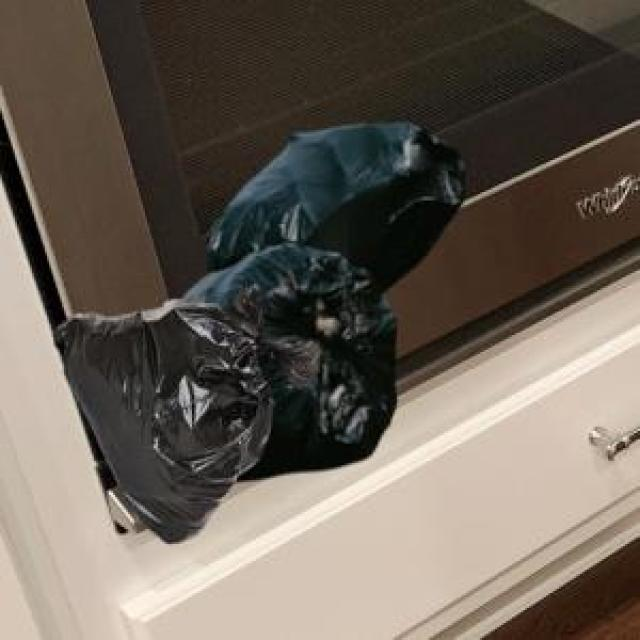Vinyl: (56, 122, 464, 541)
